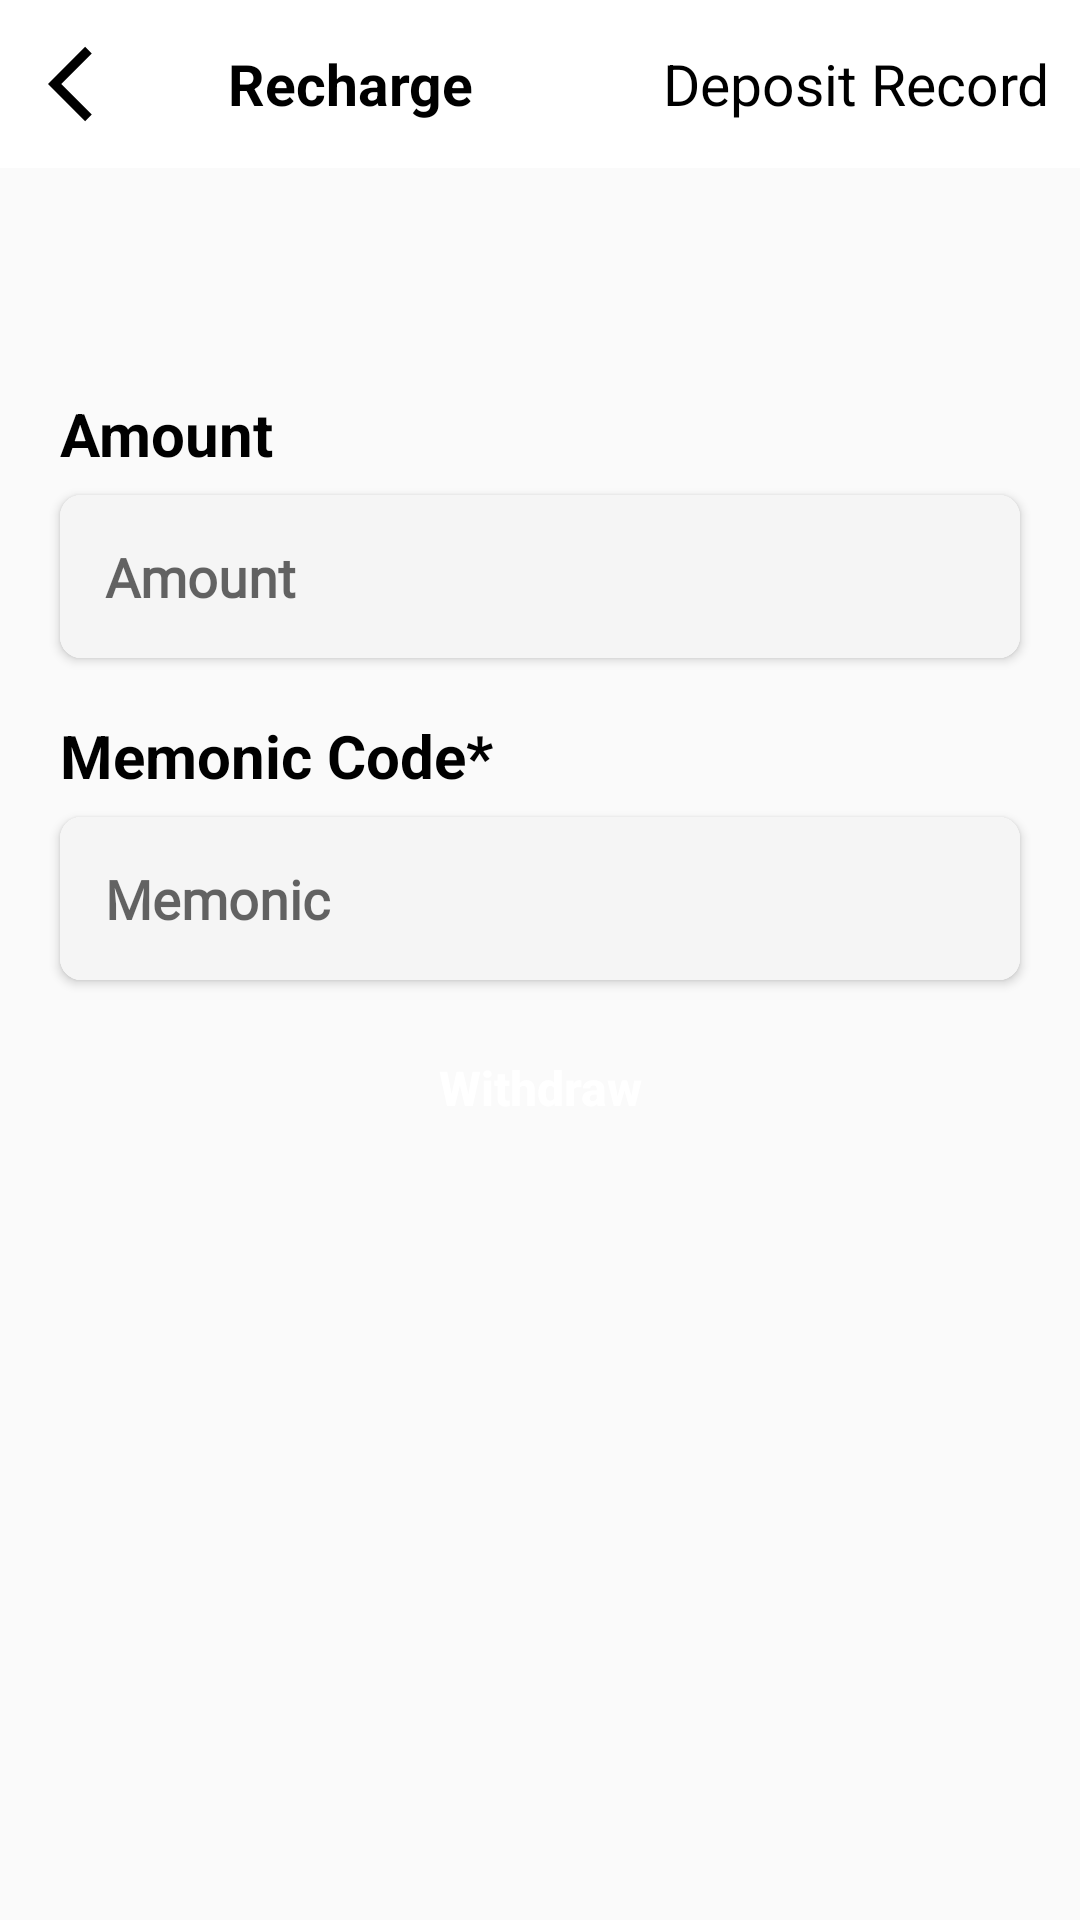

Locate icon controls on the screen. Image size 1080x1920, boxes as box(x1, y1, x2, y2).
back: box(48, 47, 92, 121)
